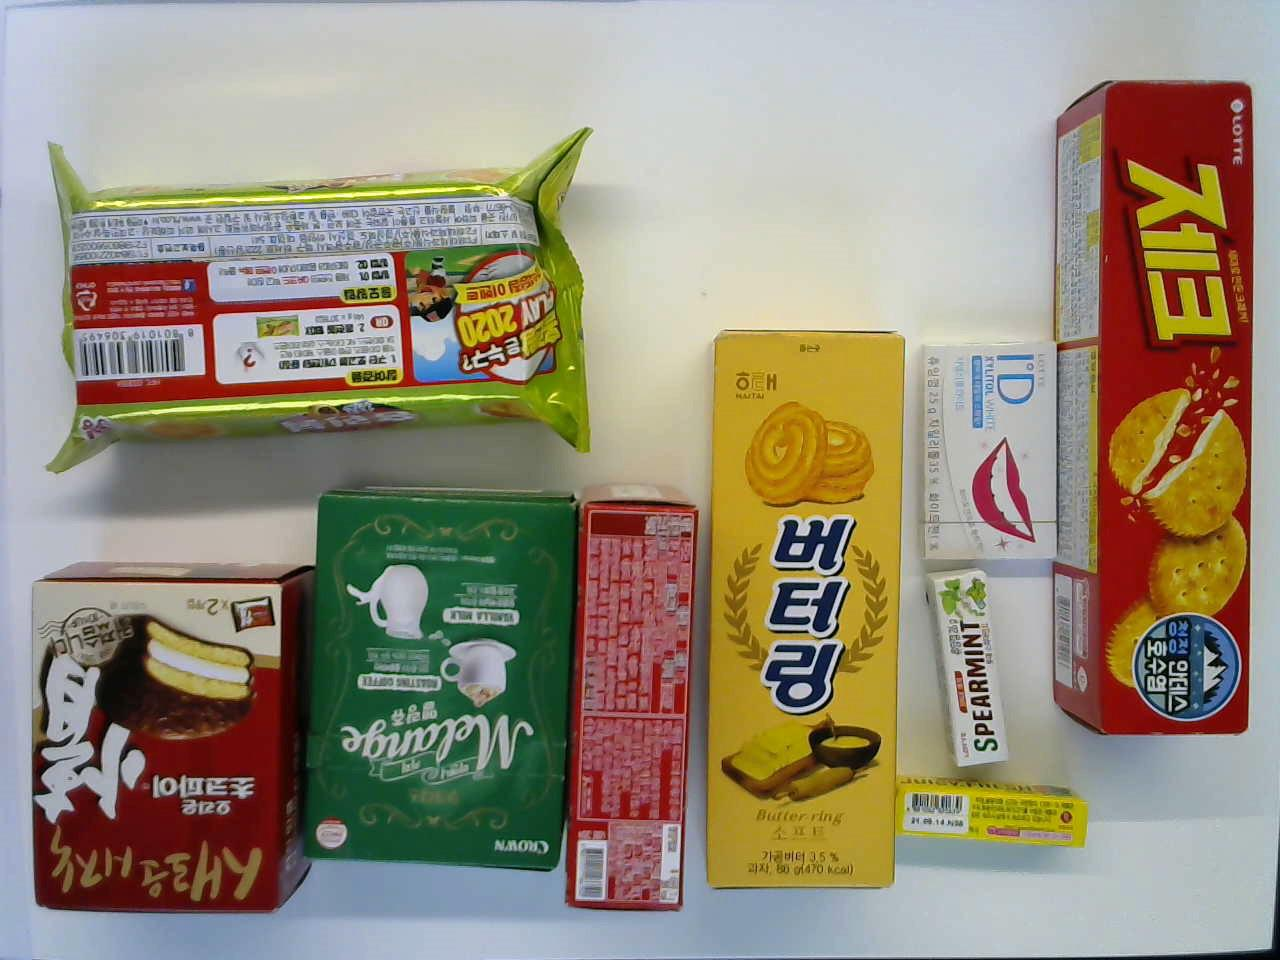ID_gum: (918, 329, 1058, 577)
buttering: (1054, 85, 1260, 739), (702, 327, 908, 894)
chocopie: (31, 557, 310, 910)
couque_coffee: (314, 486, 565, 879)
couque_white: (561, 479, 701, 916)
homerunball: (1054, 85, 1260, 739), (73, 184, 561, 428)
juicyfresh: (900, 775, 1089, 856)
spearmint: (917, 572, 1016, 770)
zec: (1054, 85, 1260, 739)
